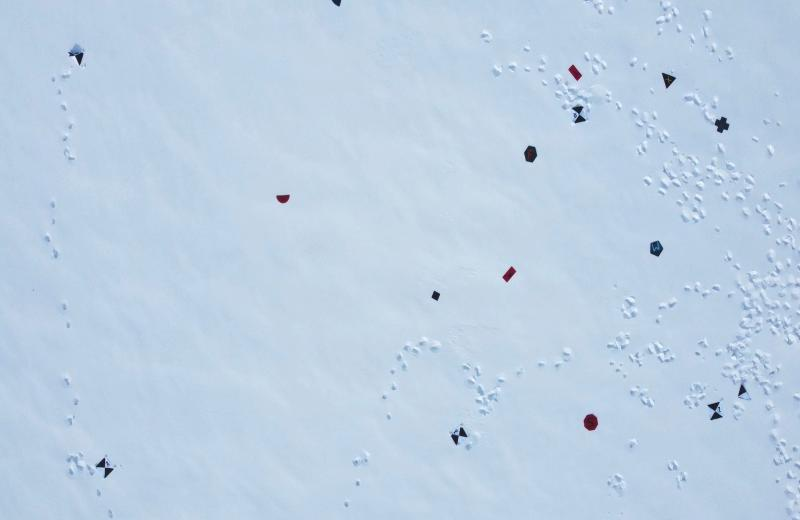Cross: (714, 116, 730, 134)
Hexagon: (522, 145, 538, 164)
Octagon: (581, 413, 599, 433)
Pentagon: (648, 240, 664, 258)
Quarter Circle: (330, 0, 341, 7)
Rectangle: (502, 264, 517, 283), (567, 64, 582, 82)
Semi Circle: (276, 193, 290, 206)
Square: (429, 290, 441, 302)
Triangle: (660, 71, 676, 90)
